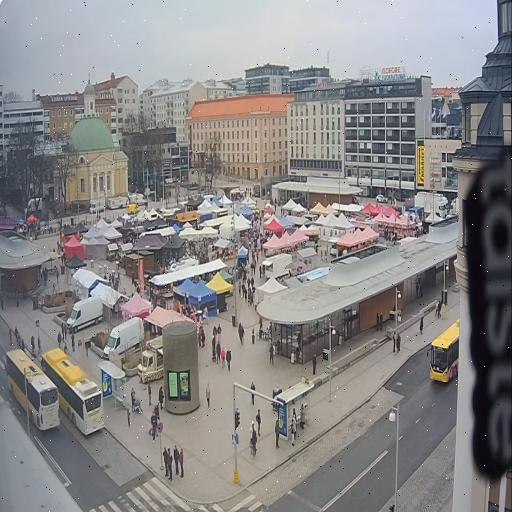Bus: (41, 348, 104, 435), (6, 349, 59, 430), (430, 319, 459, 383)
Delivery: (104, 317, 143, 359), (67, 297, 103, 333), (138, 336, 163, 383)
